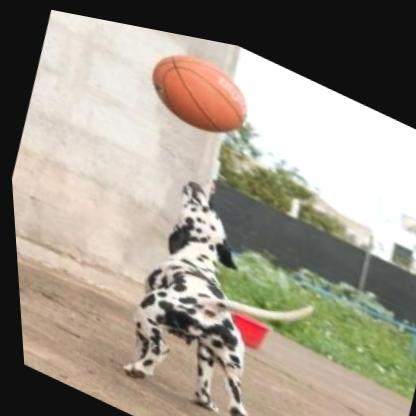basketball: (132, 23, 264, 146)
